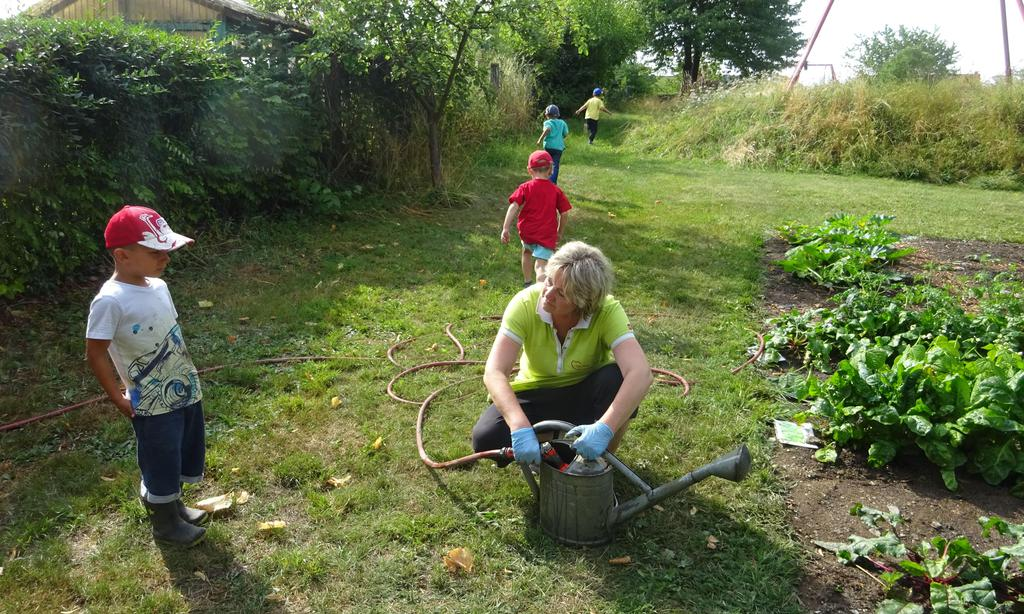child: (72, 204, 230, 552), (498, 149, 552, 267), (531, 107, 576, 178), (572, 86, 616, 144)
